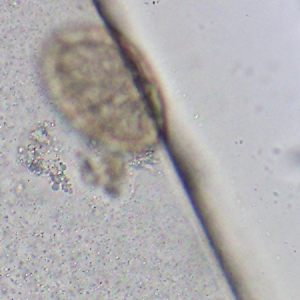Fasciola_hepatica_egg: (39, 21, 168, 149)
